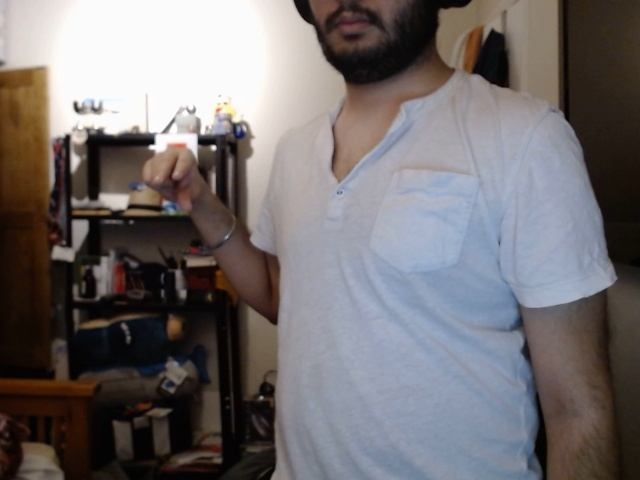No: (130, 141, 215, 229)
